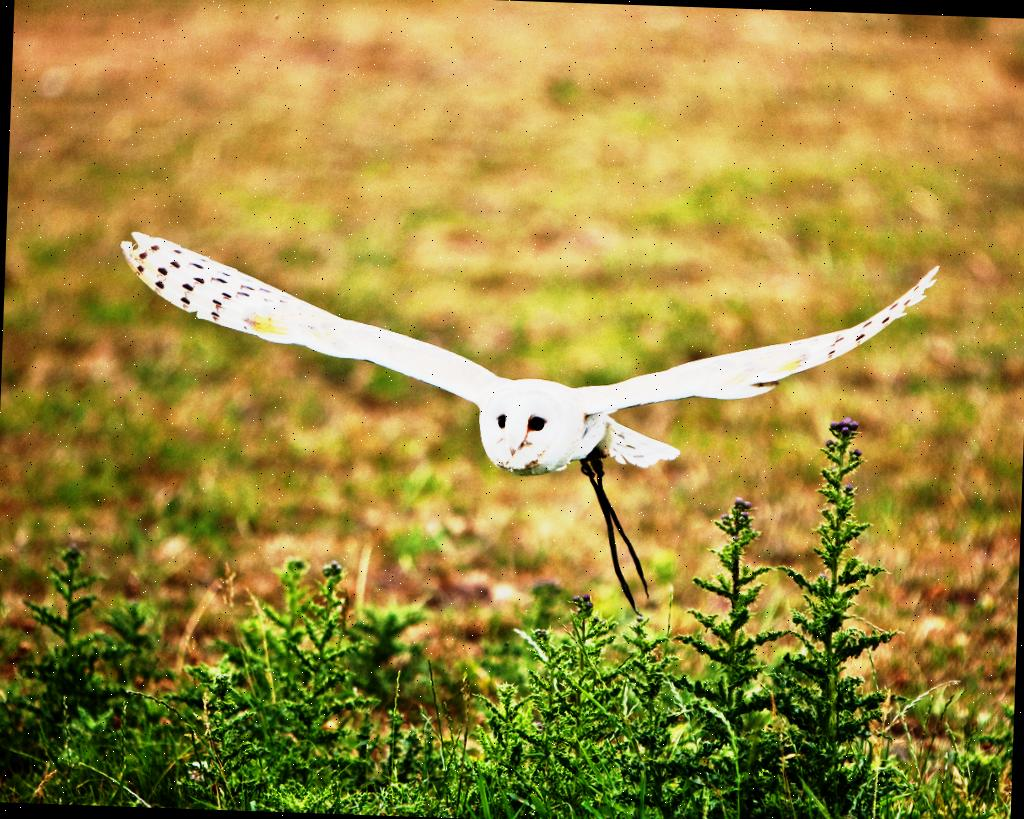Owl: (296, 326, 789, 485)
